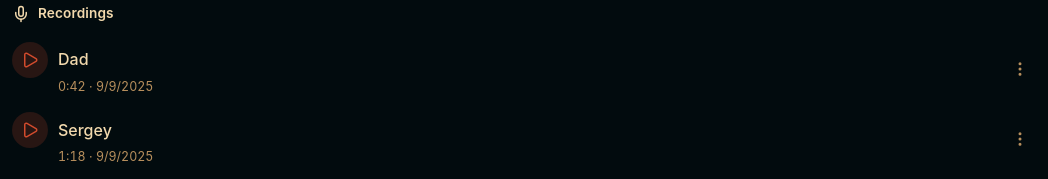
VoiceNotes shared player › offers Remove only to someone who can write on the photo
Click the button named "More for the recording by Dad": (1020, 69) [1004,53,1036,85]
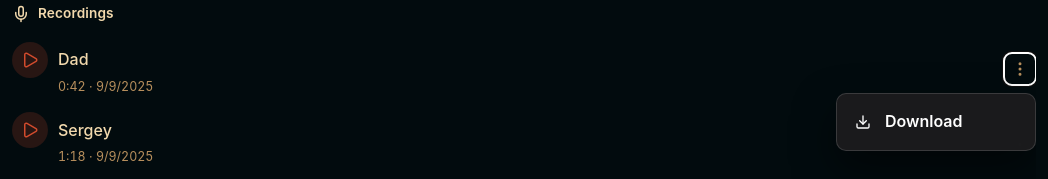
Expected: the menu item "Download" is shown, [855,112,962,132]
